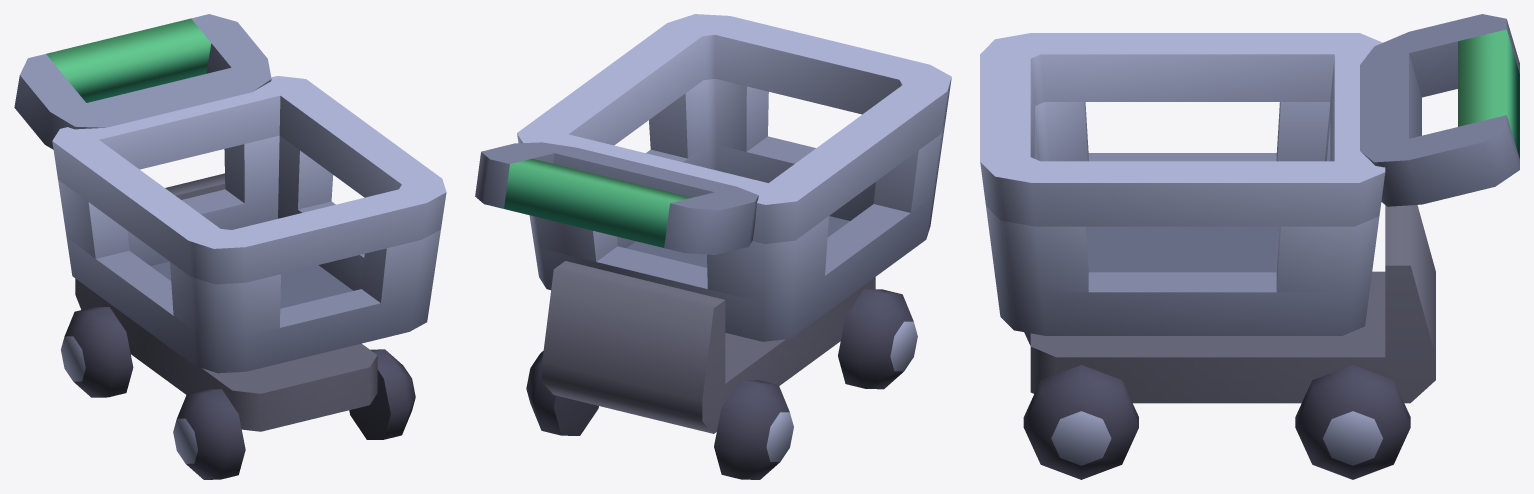
The model's file is shopping-cart.glb.
3 views of the same model, side by side, from view 1: azimuth 30°, elevation 25°; view 2: azimuth 150°, elevation 25°; view 3: azimuth 270°, elevation 25° (orthographic). The views are drawn at different scales.
Visible parts, largest first — view 1: shopping-cart; view 2: shopping-cart; view 3: shopping-cart.
Boxes of the visible parts, <box> form: shopping-cart: <box>14,14,446,479</box>; shopping-cart: <box>475,14,951,479</box>; shopping-cart: <box>980,14,1519,479</box>.
Bounding box in the file's own units: 0.35 × 0.3858 × 0.5328.
Materials: 1 (1 with a texture image).
